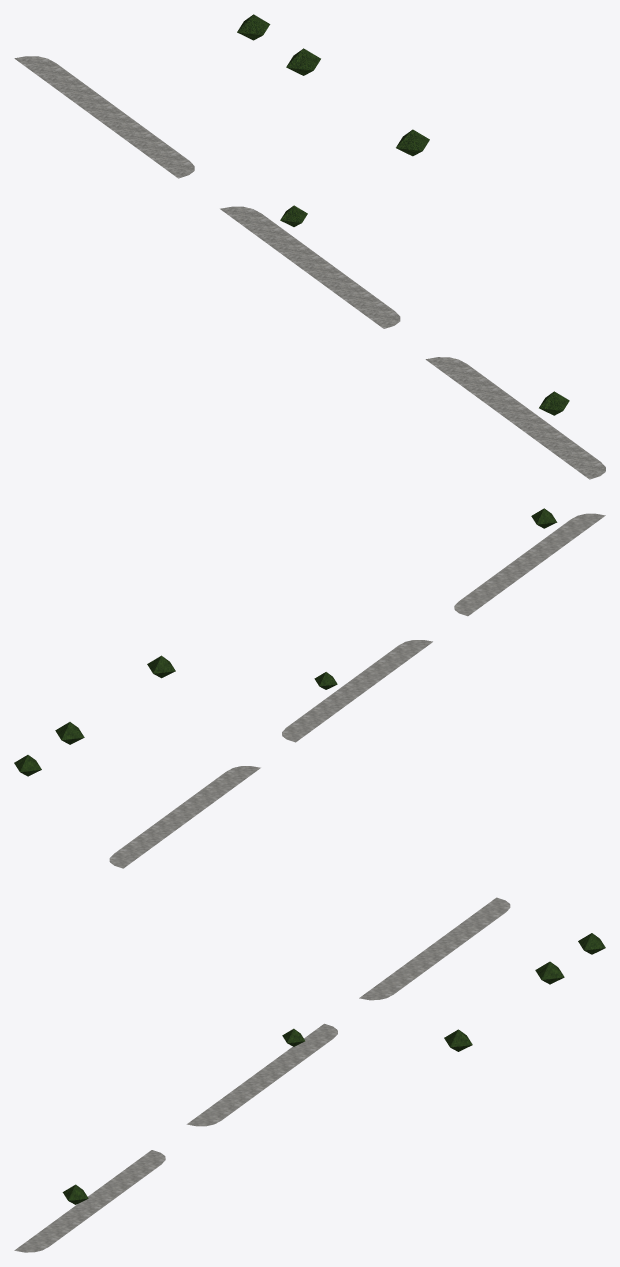
File: cidade_S05_04_lod.gltf
3 renders of one model, top to bottom at view 1: azimuth 30°, elevation 25°; view 2: azimuth 150°, elevation 25°; view 3: azimuth 330°, elevation 25°, orthographic. The views are drawn at different scales.
Visible parts, largest first — view 1: S05_04_Chao_LOD2, S05_04_Vegetacao_LOD2; view 2: S05_04_Chao_LOD2, S05_04_Vegetacao_LOD2; view 3: S05_04_Chao_LOD2, S05_04_Vegetacao_LOD2.
Boxes of the visible parts, x1,y1,x2,y2 form: S05_04_Chao_LOD2: (14, 56, 605, 479); S05_04_Vegetacao_LOD2: (237, 14, 569, 415); S05_04_Chao_LOD2: (109, 513, 605, 868); S05_04_Vegetacao_LOD2: (14, 508, 557, 776); S05_04_Chao_LOD2: (14, 897, 510, 1252); S05_04_Vegetacao_LOD2: (62, 933, 605, 1204).
Bounding box in the file's own units: 21.83 × 5.32 × 112.
2 materials, 2 textured.
